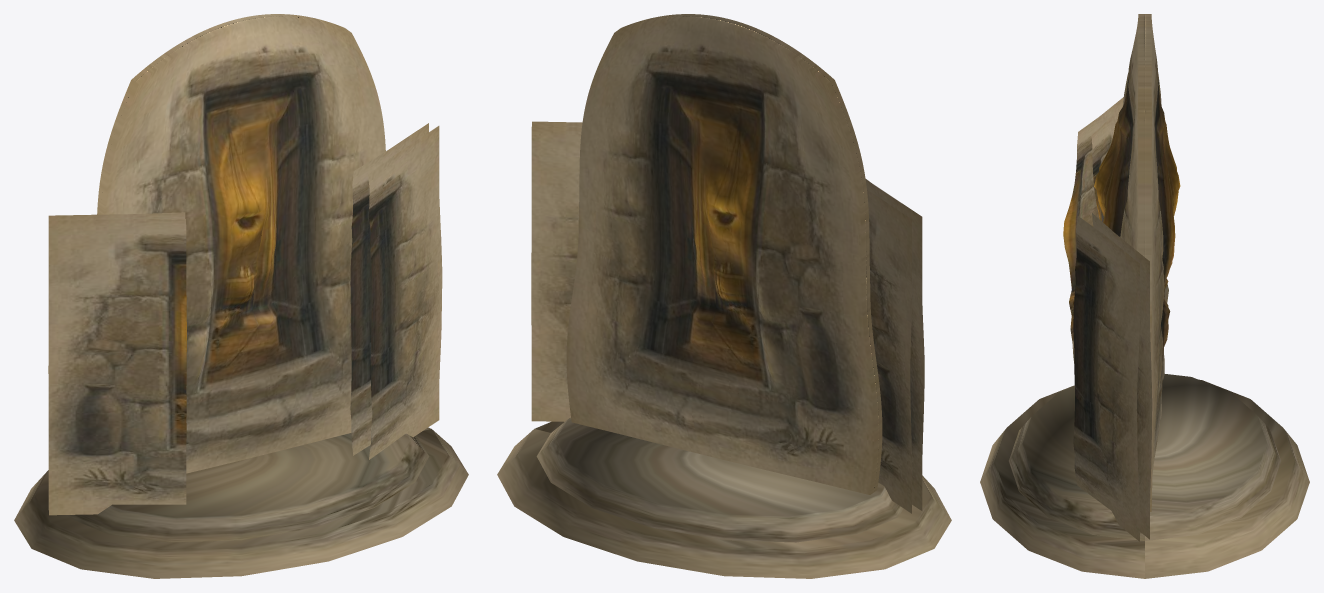
The model's file is psalms-1-26.glb.
3 views of the same model, side by side, from view 1: azimuth 30°, elevation 25°; view 2: azimuth 150°, elevation 25°; view 3: azimuth 270°, elevation 25° (orthographic). The views are drawn at different scales.
Parts seen in each view (by area): view 1: PaintingSculptureMonument; view 2: PaintingSculptureMonument; view 3: PaintingSculptureMonument.
Boxes of the visible parts, <box> form: PaintingSculptureMonument: <box>14,14,468,578</box>; PaintingSculptureMonument: <box>497,14,951,578</box>; PaintingSculptureMonument: <box>980,14,1309,578</box>.
Size of the model in its own units: 2.76 by 2.99 by 1.99.
1 material, 1 textured.
